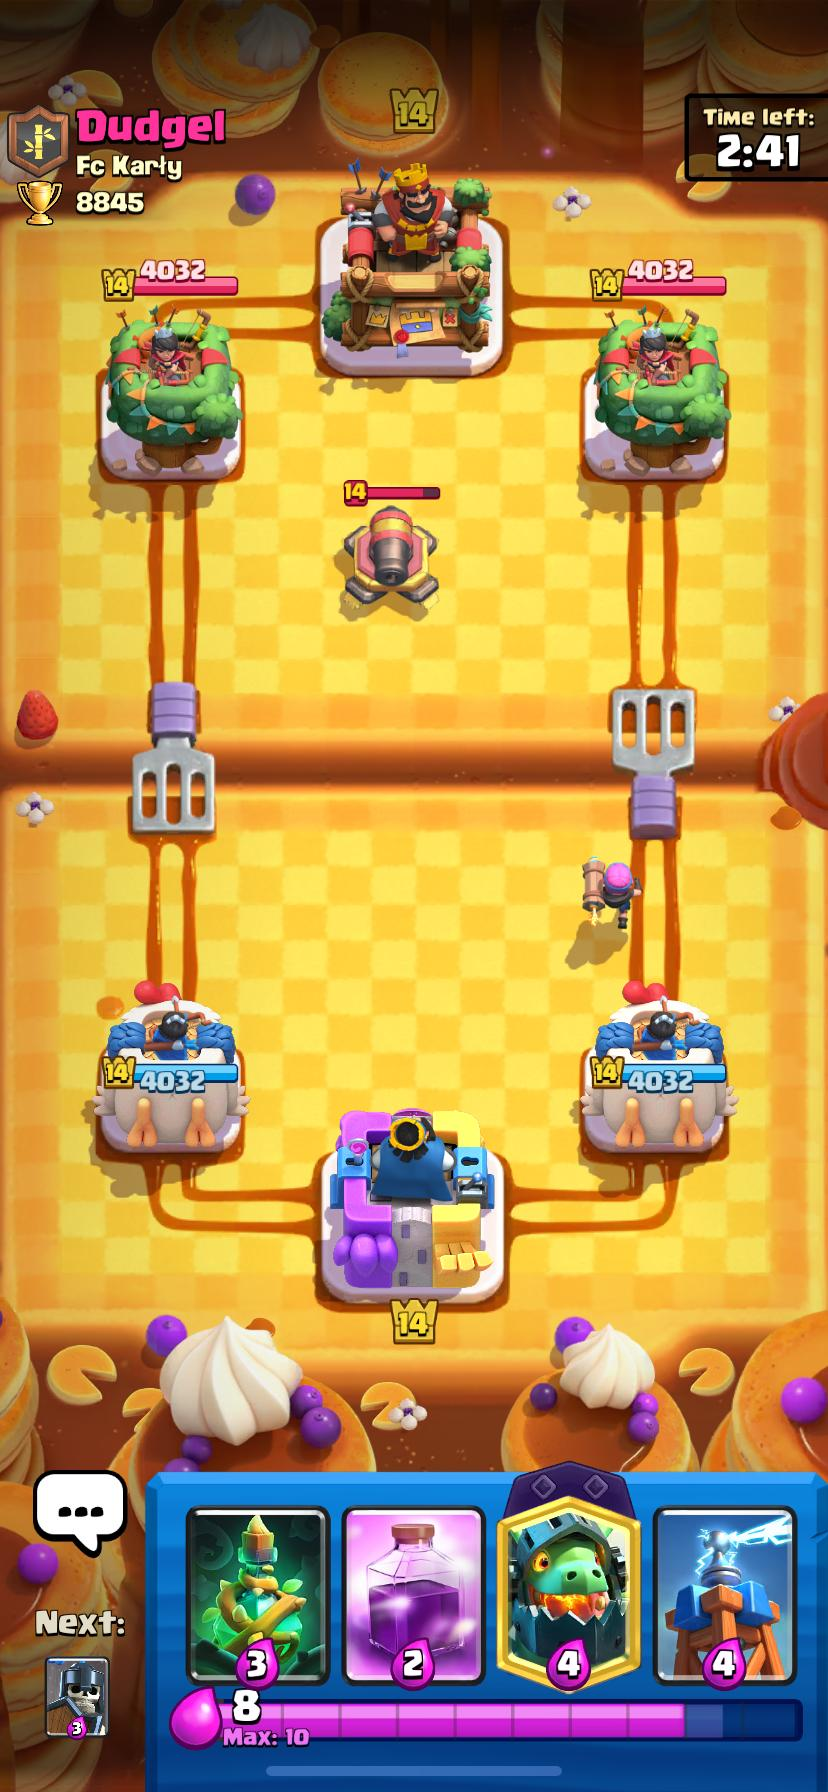EKingTower: (323, 165, 491, 351)
Ecan: (343, 503, 437, 607)
EnemyPrincessTower: (595, 311, 729, 472), (108, 311, 241, 466)
OFirecrack: (583, 856, 642, 929)
OwnKingTower: (331, 1109, 493, 1299)
OwnPrincessTower: (580, 982, 735, 1151), (93, 983, 248, 1151)
